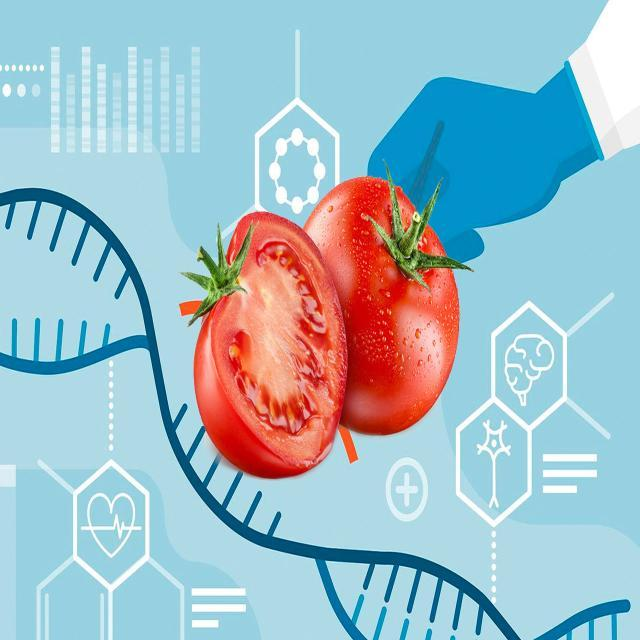kirmizi: (164, 160, 522, 500)
